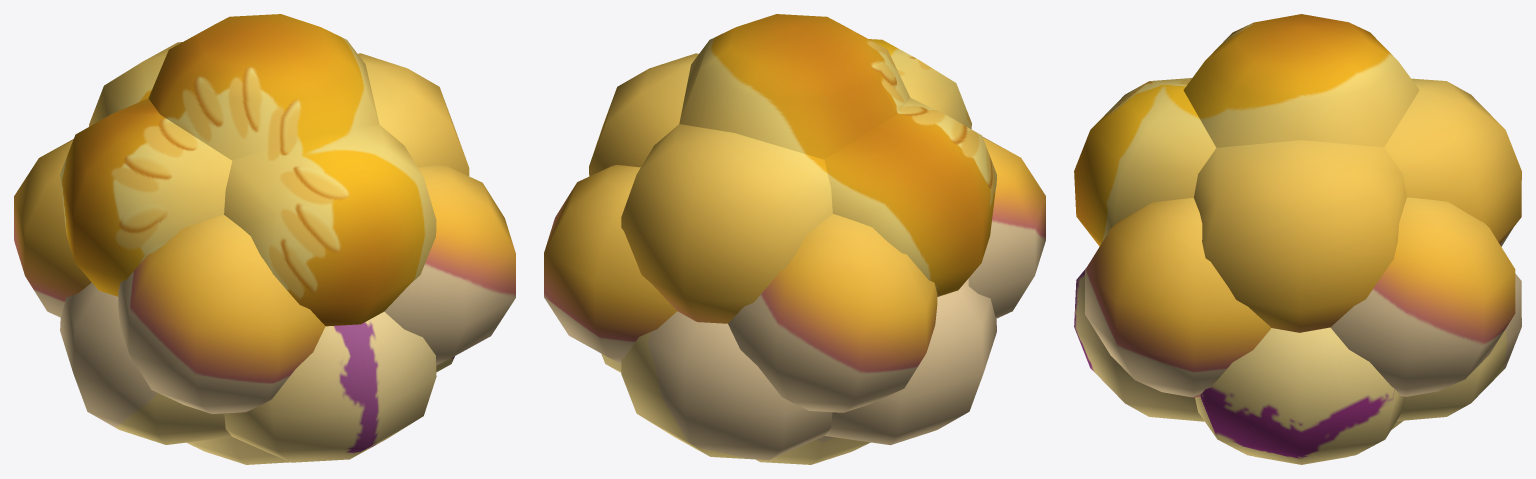
Rendered from Cloudberry.fbx.
3 views of the same model, side by side, from view 1: azimuth 30°, elevation 25°; view 2: azimuth 150°, elevation 25°; view 3: azimuth 270°, elevation 25° (orthographic).
Parts seen in each view (by area): view 1: Cloudberry; view 2: Cloudberry; view 3: Cloudberry.
Part boxes in pixels (x1,y1,x2,y2): Cloudberry: [14, 14, 515, 464]; Cloudberry: [544, 14, 1045, 464]; Cloudberry: [1074, 14, 1521, 464].
Bounding box in the file's own units: 15.63 × 16.65 × 15.96.
